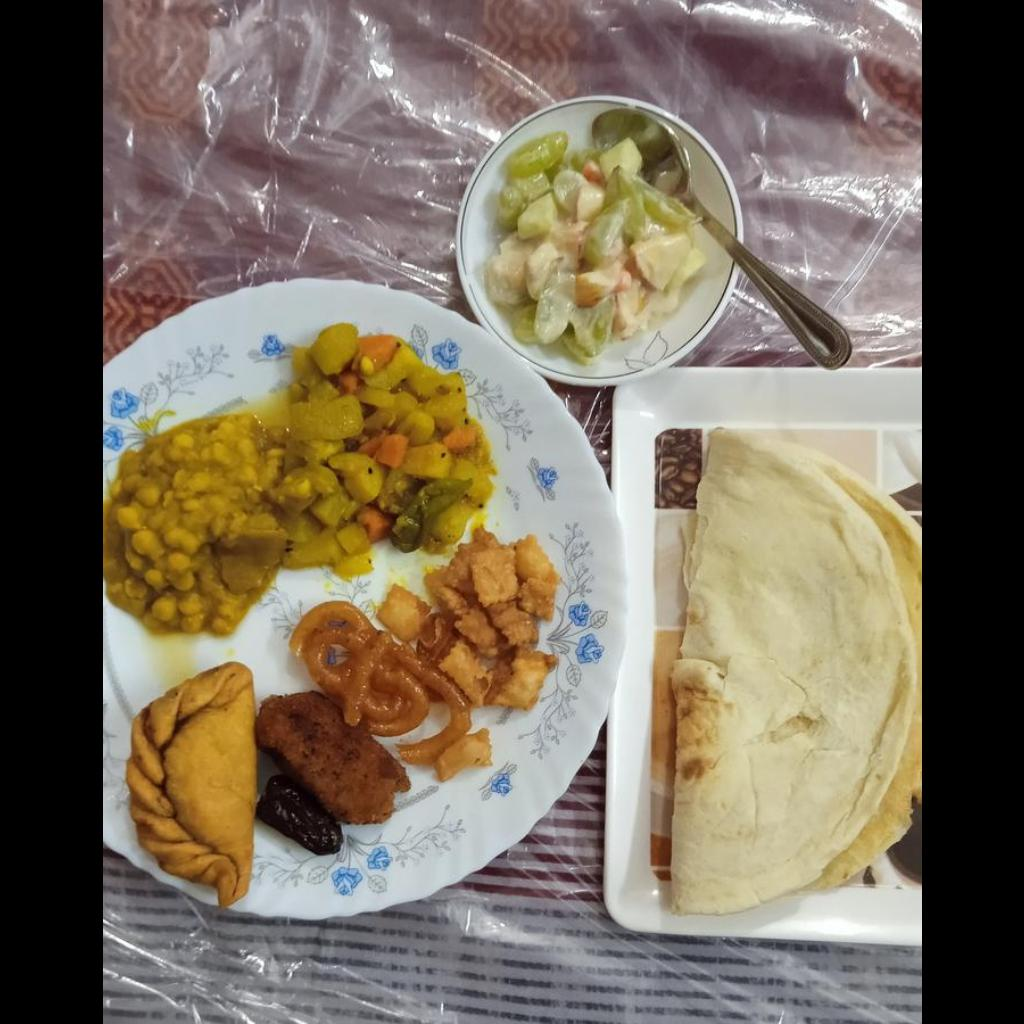chomchom: (376, 529, 557, 710), (433, 729, 489, 781)
chop-alu: (257, 694, 407, 823)
daal: (110, 416, 285, 627)
dates: (256, 777, 344, 856)
ruti: (668, 427, 920, 917)
salad: (483, 132, 703, 363)
sweets: (127, 661, 251, 903), (294, 606, 460, 759)
vegetable: (273, 330, 488, 573)
